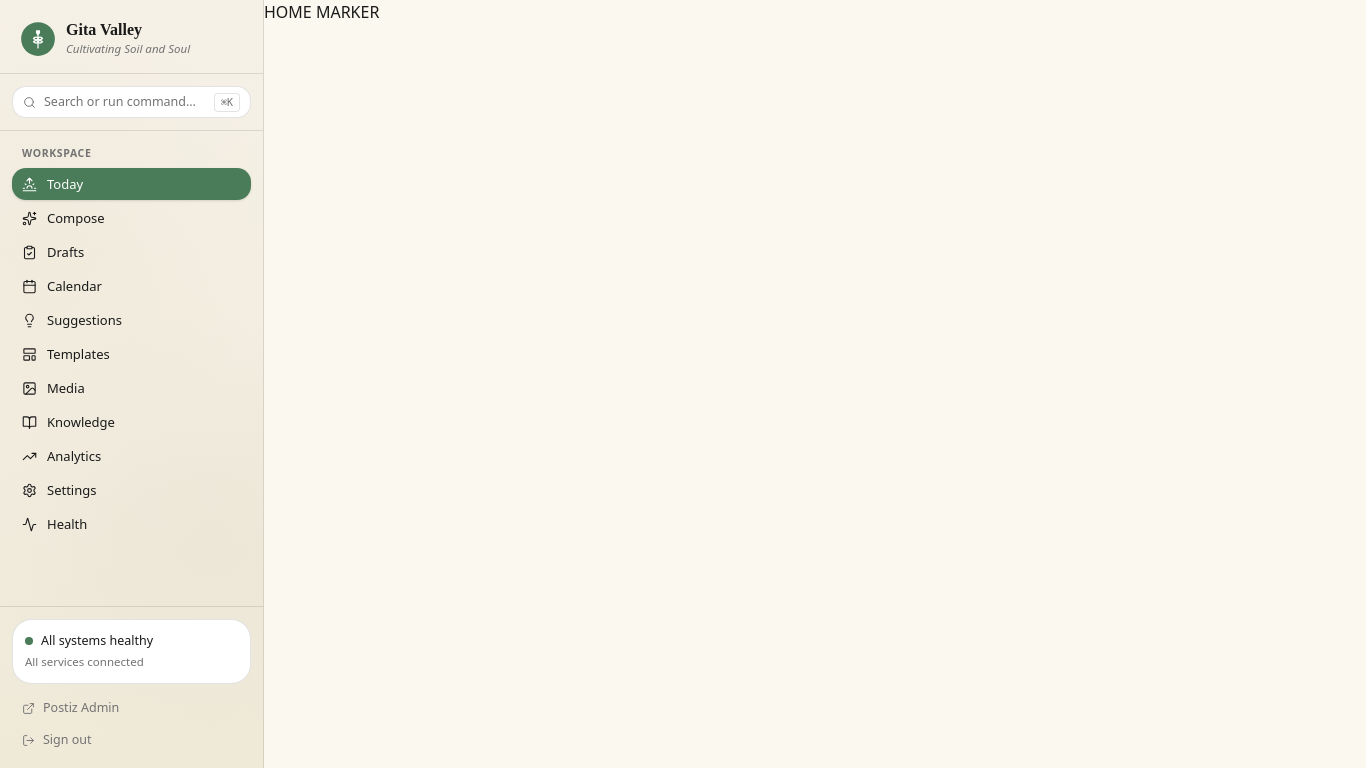
it: Command palette › navigates when a Go-to row is clicked
Type keys "{Meta>}k{/Meta}"
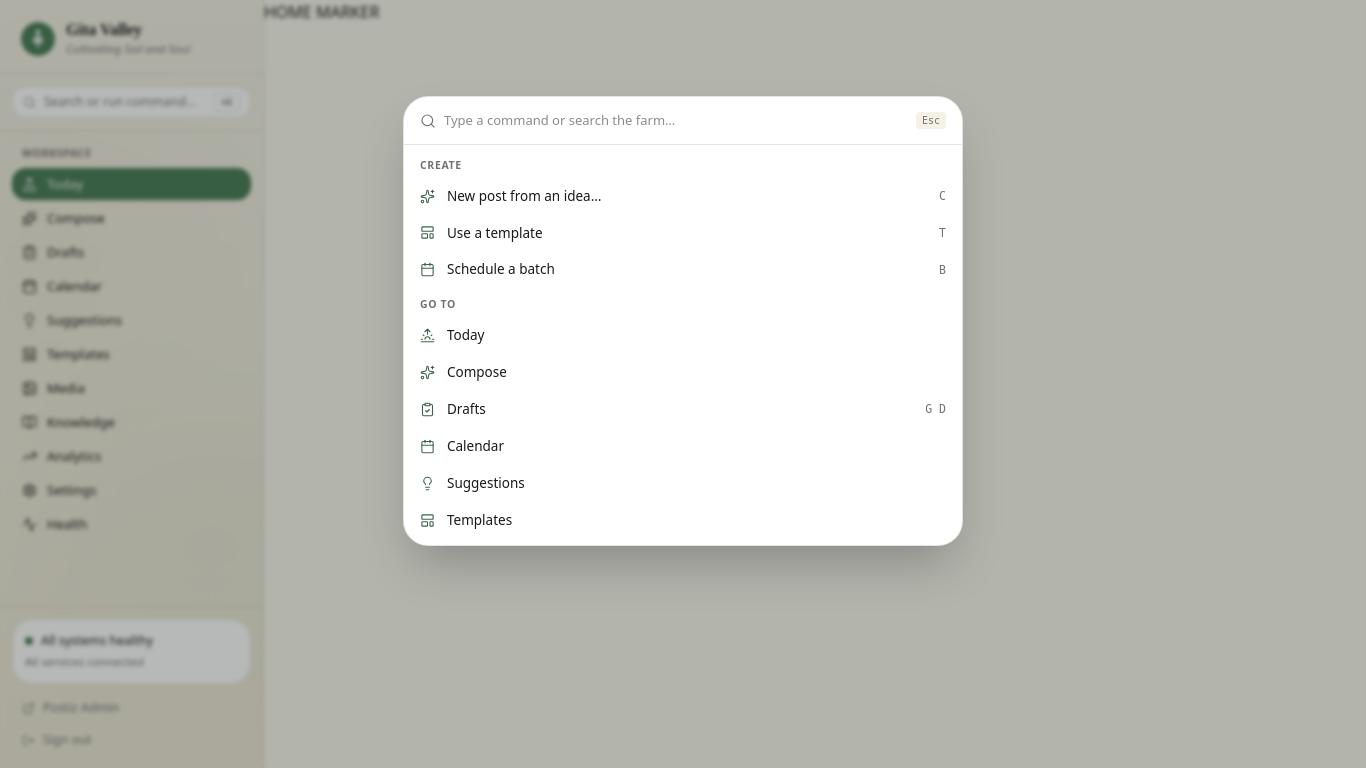
Click the button "Drafts G D". click: [466, 409]
box: [404,391,962,428]
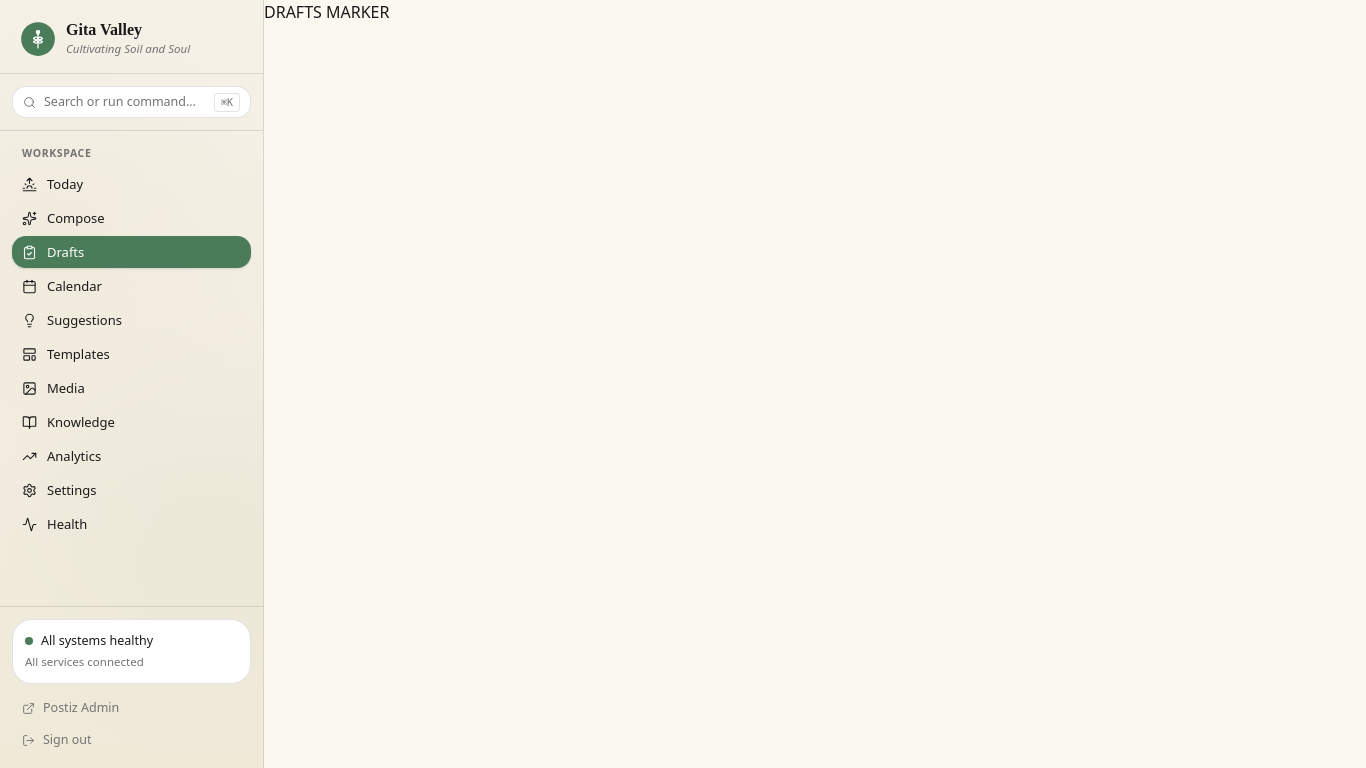
Expected: the dialog is gone
Expected: the text "DRAFTS MARKER" is shown, [264,1,390,23]
